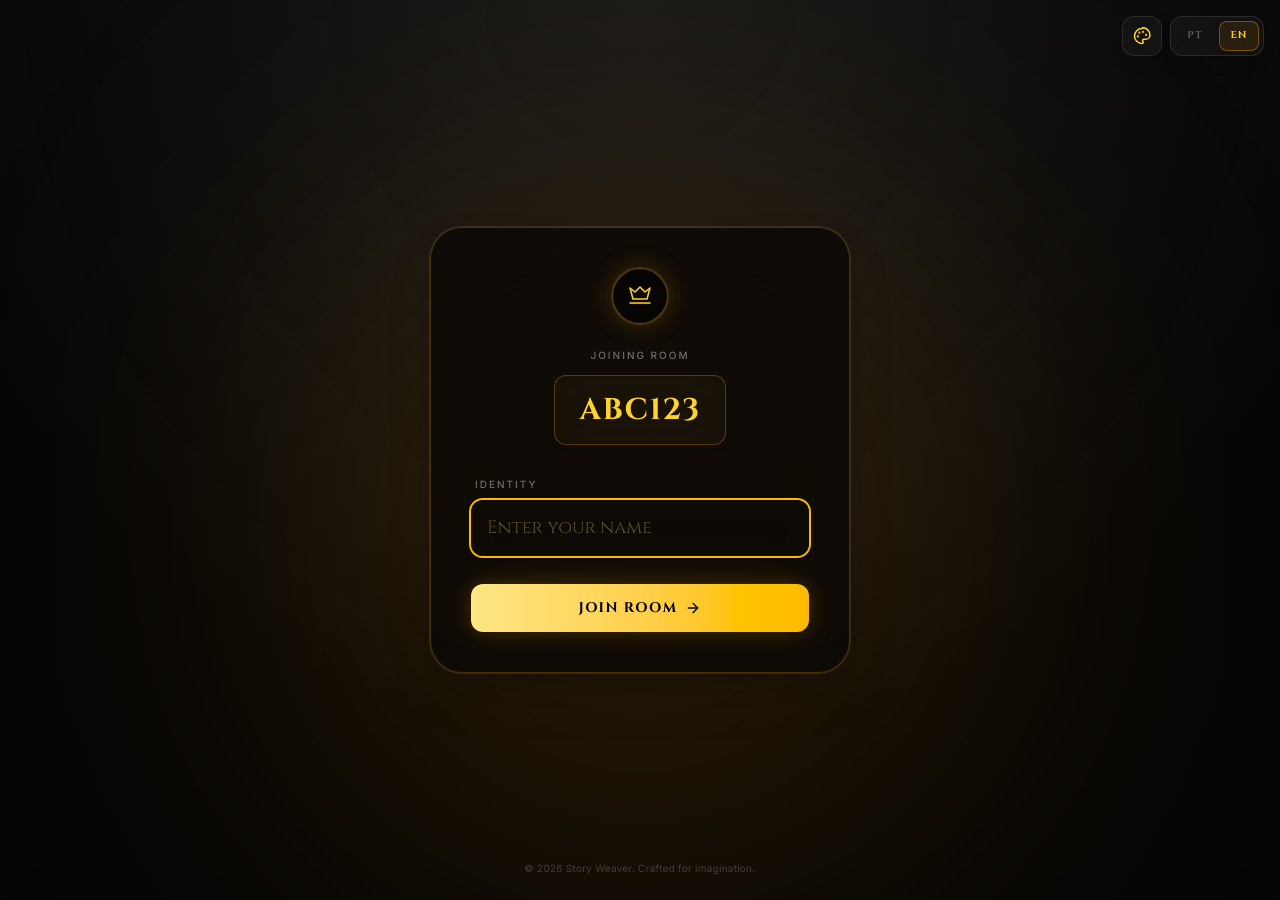
Test case: JoinScreen — invite mode join flow › shows error when name is empty
The width and height of the screenshot is (1280, 900).
Click the button "JOIN ROOM".
click(640, 608)  # box left=471, top=584, right=809, bottom=632
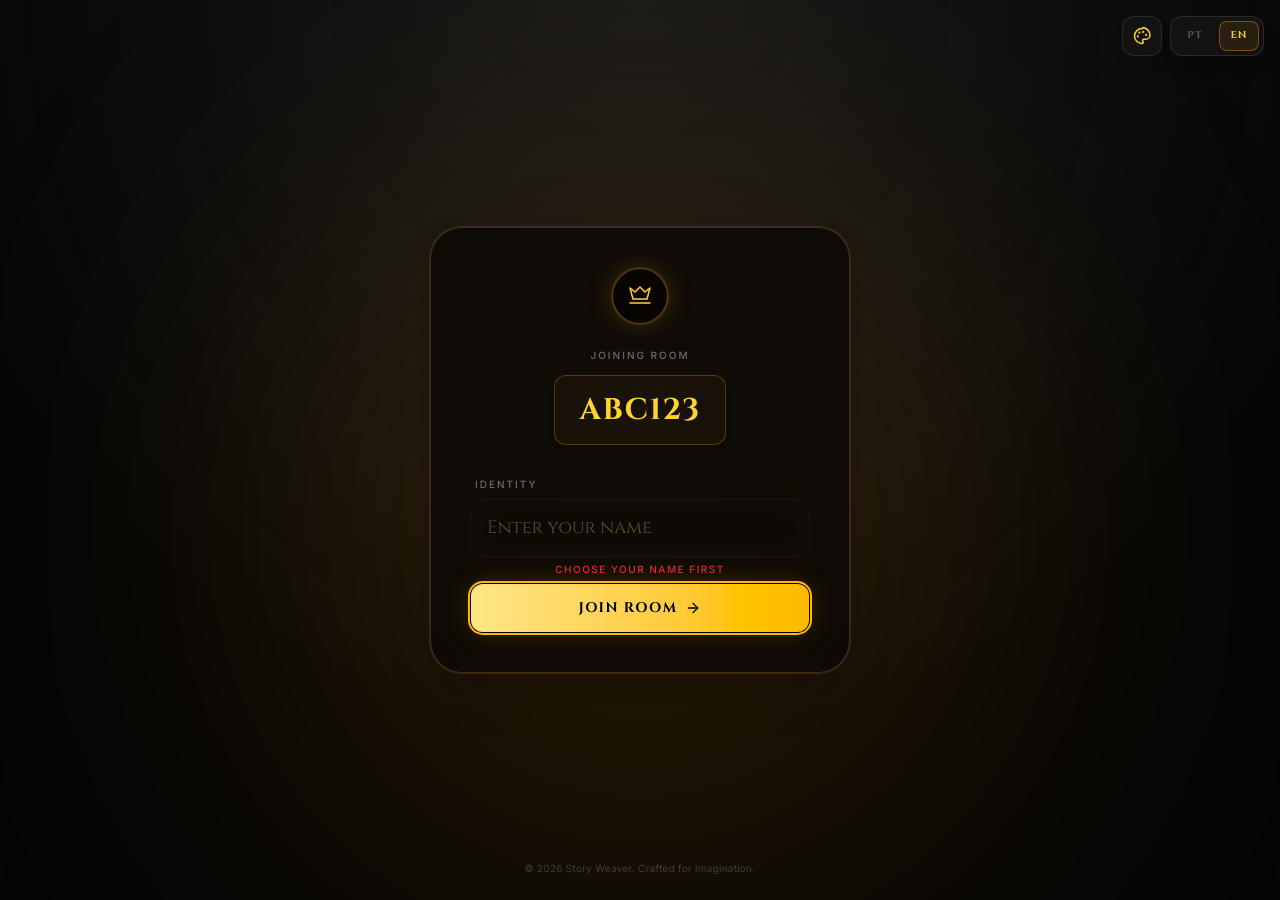
Now the text "Choose your name first" is shown, box left=555, top=562, right=725, bottom=577
